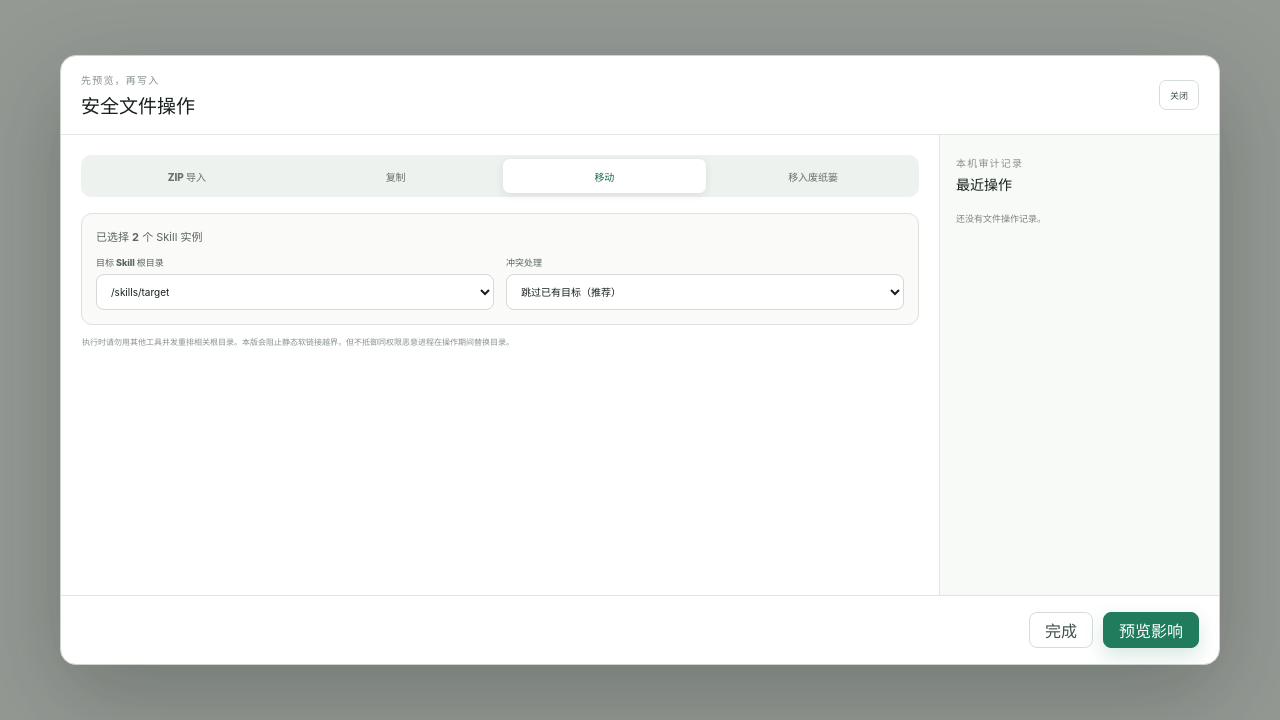
Test: 安全文件操作 › 批量移动先展示冲突与删除影响，再逐项报告成功和失败
This screenshot has width=1280, height=720.
Select "/skills/target" in the dropdown labelled "目标 Skill 根目录" at (295, 292), box [96,274,494,310]
Select "覆盖目标并创建备份" in the dropdown labelled "冲突处理" at (705, 292), box [506,274,904,310]
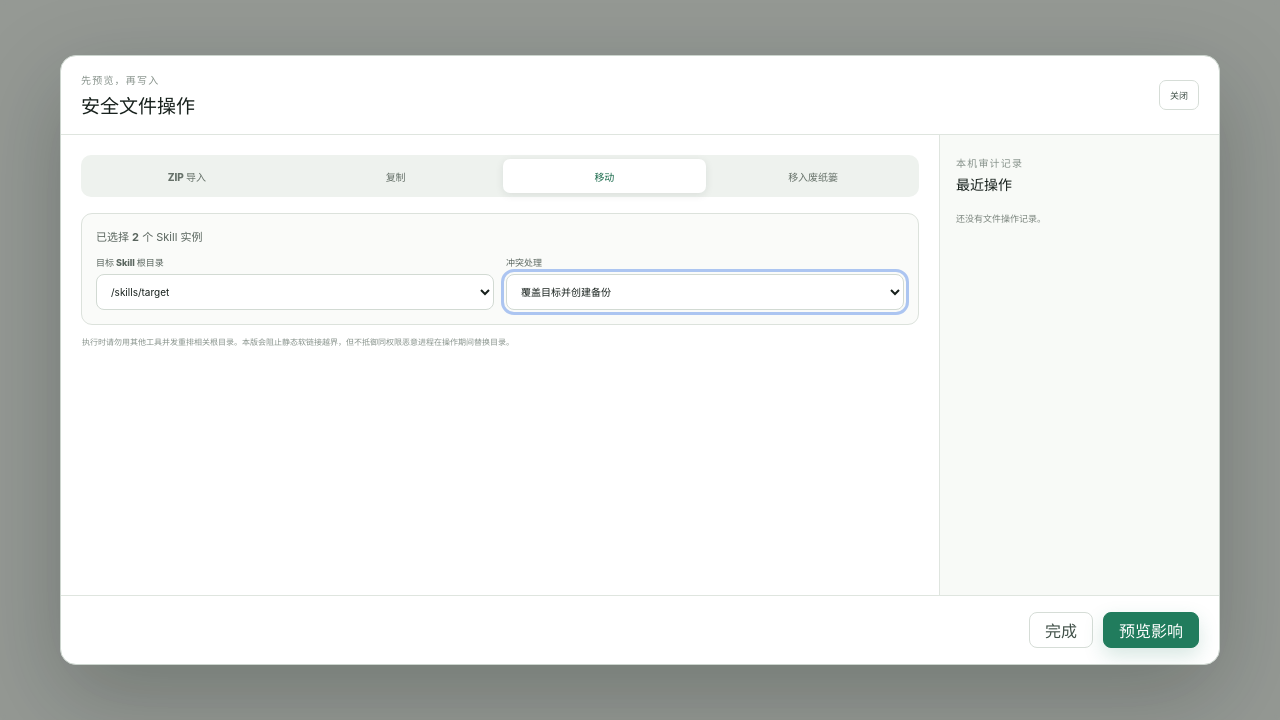
Click the button "预览影响" at (1151, 630), box [1103,612,1199,648]
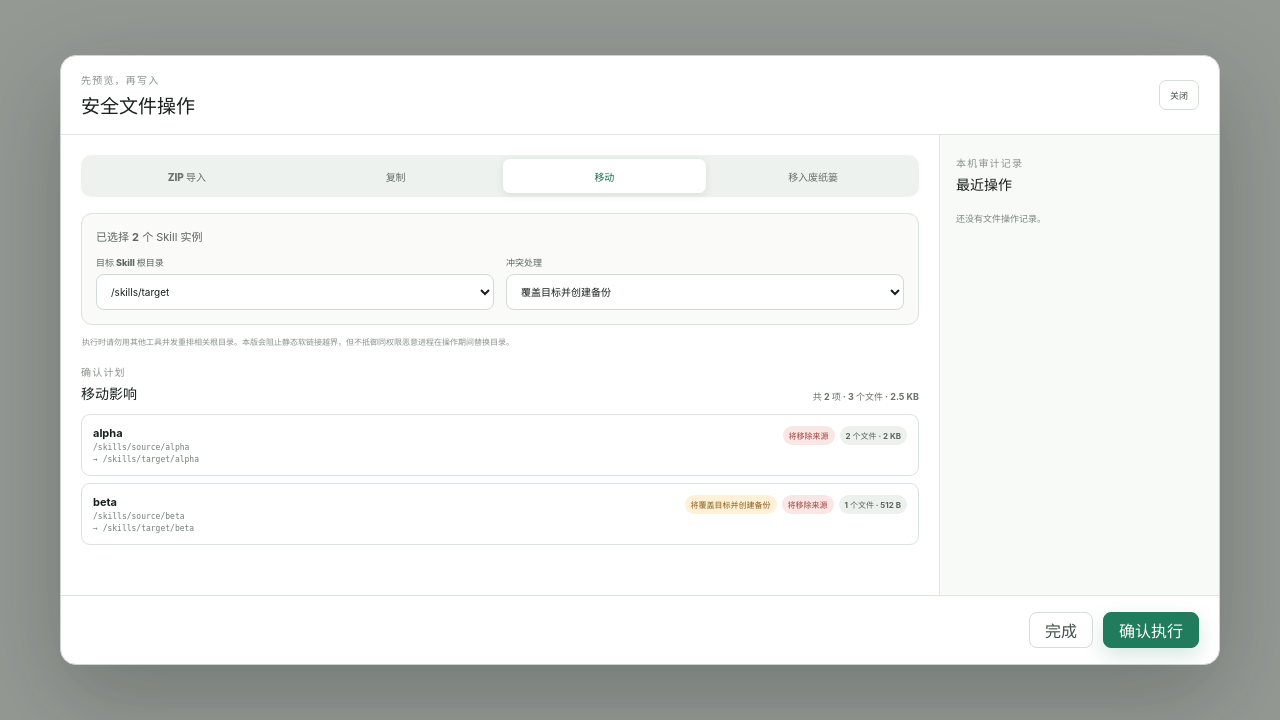
Expected: the text "将覆盖目标并创建备份" is shown, [684,495,776,514]
Expected: the text "将移除来源" is shown 2 times, [783,426,835,445]; [782,495,834,514]
Expected: the text "共 2 项 · 3 个文件 · 2.5 KB" is shown, [813,390,919,403]
Select "跳过已有目标（推荐）" in the dropdown labelled "冲突处理" at (705, 292), box [506,274,904,310]
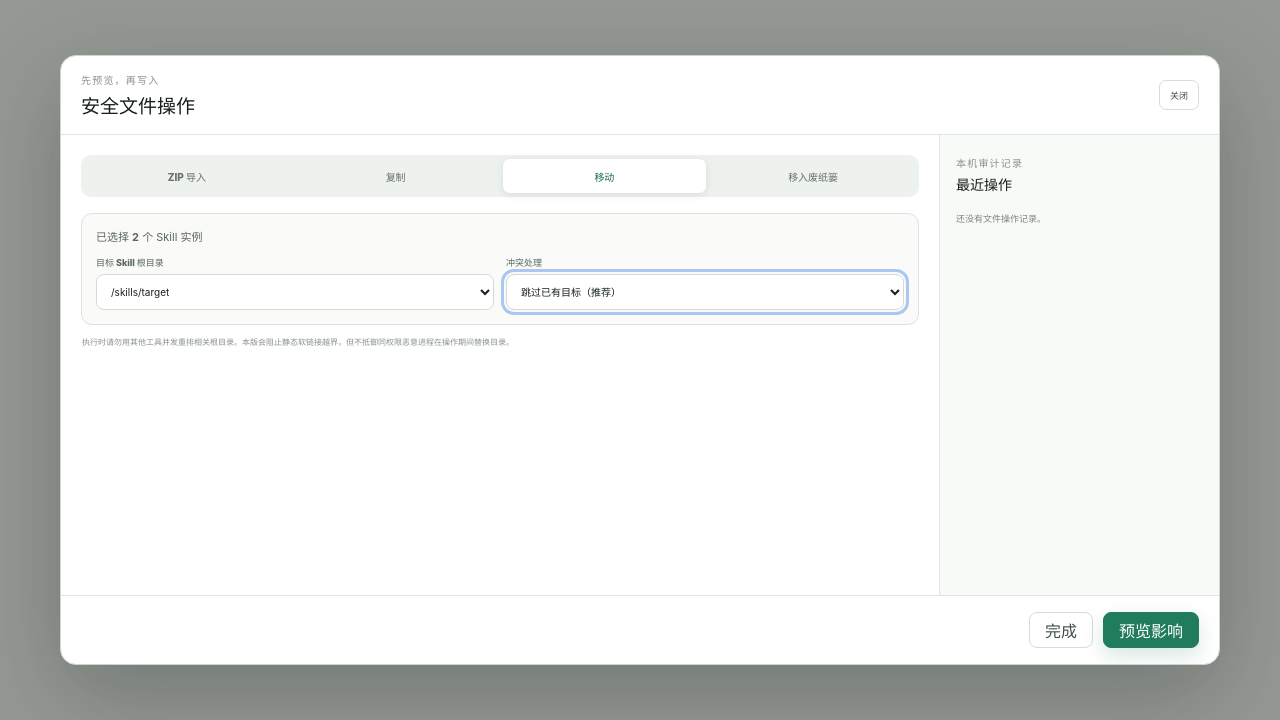
Expected: the button "确认执行" is gone
Select "覆盖目标并创建备份" in the dropdown labelled "冲突处理" at (705, 292), box [506,274,904,310]
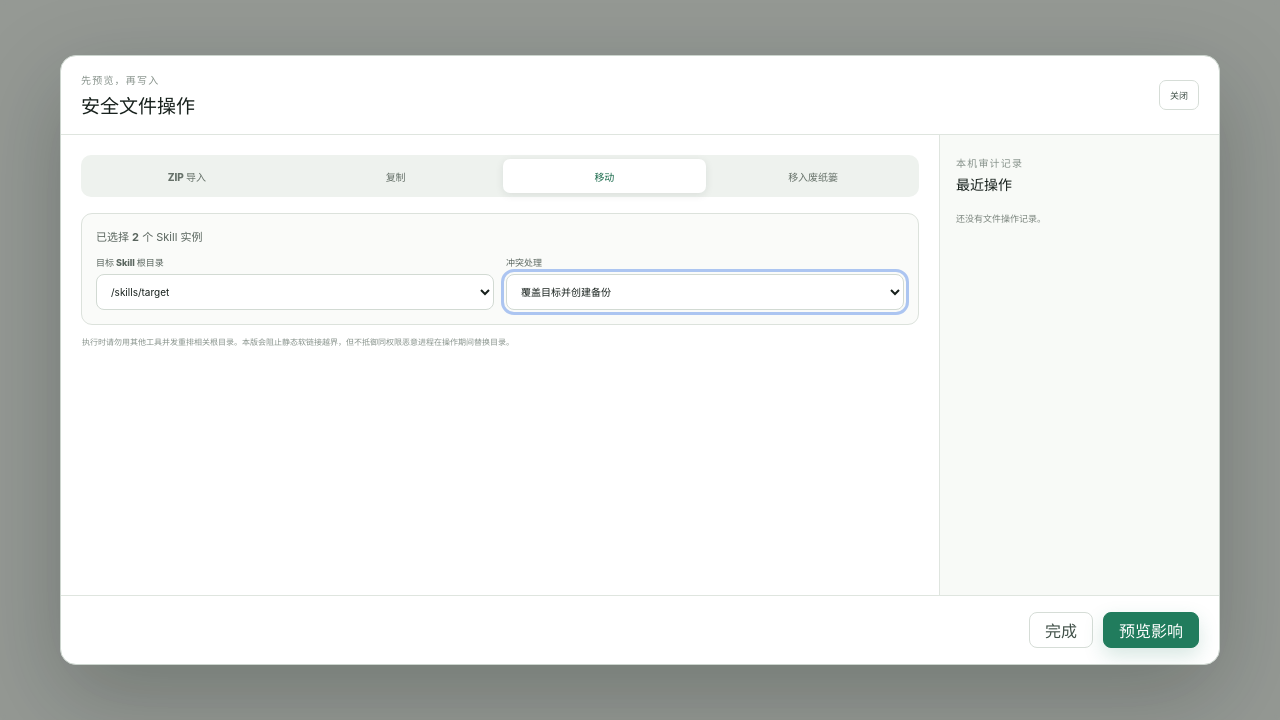
Click the button "预览影响" at (1151, 630), box [1103,612,1199,648]
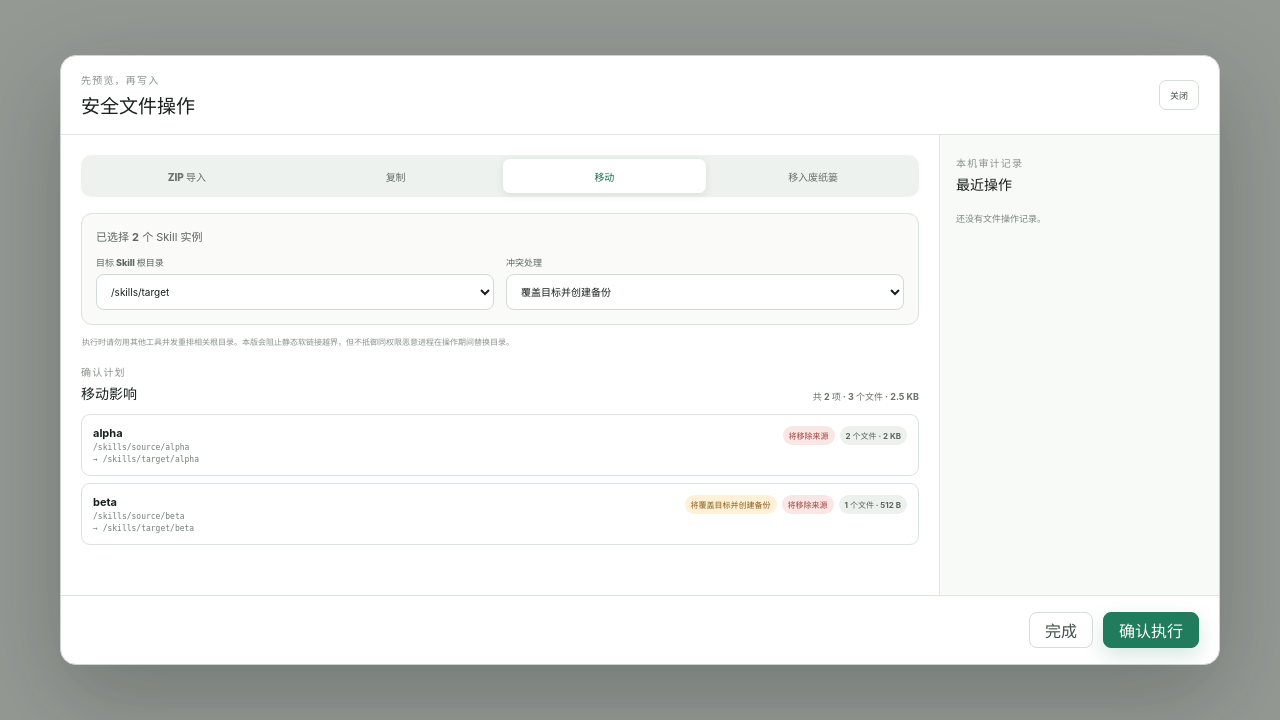
Click the button "确认执行" at (1151, 630), box [1103,612,1199,648]
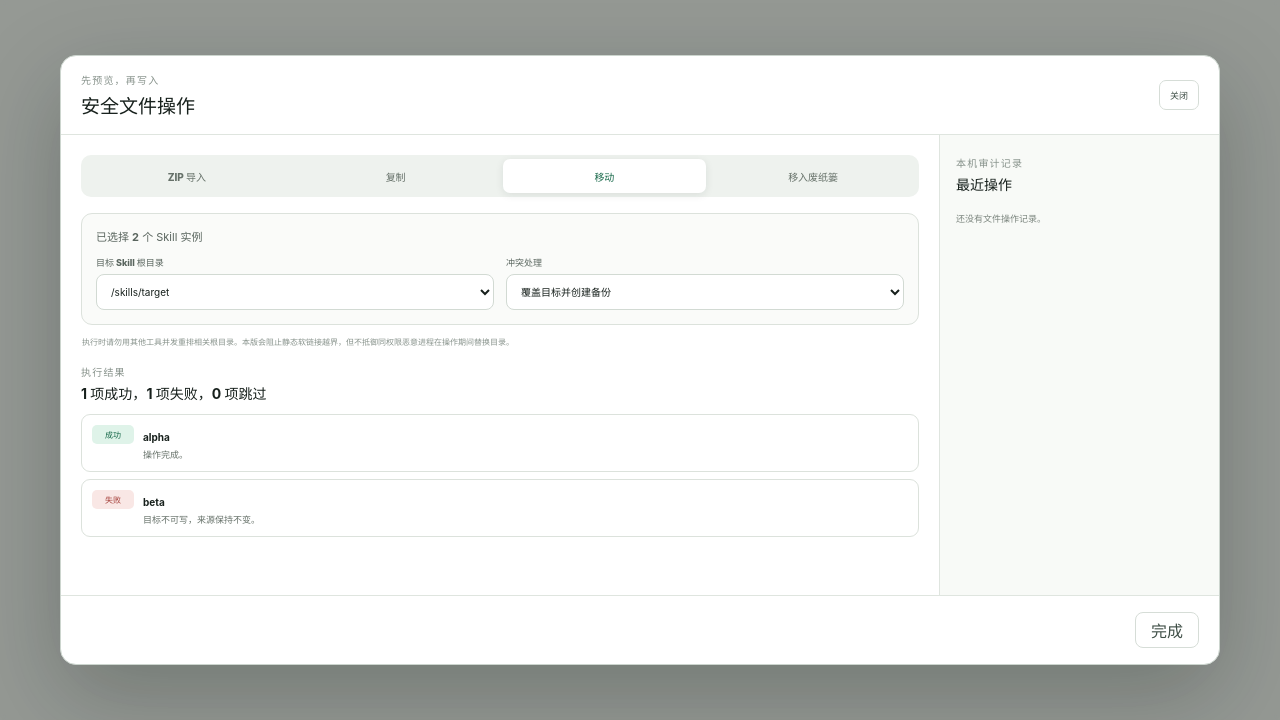
Expected: the heading "1 项成功，1 项失败，0 项跳过" is shown, [81,383,266,403]
Expected: the text "目标不可写，来源保持不变。" is shown, [143,514,260,525]
